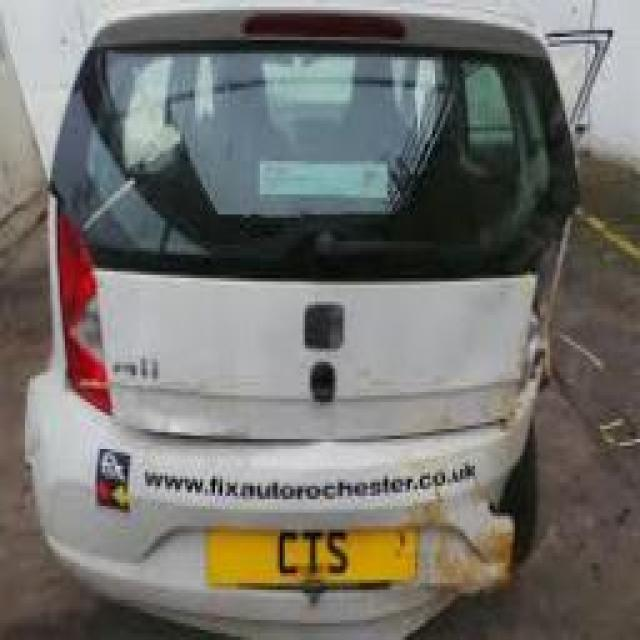Bumper: (414, 390, 549, 640)
Light: (513, 213, 583, 401)
